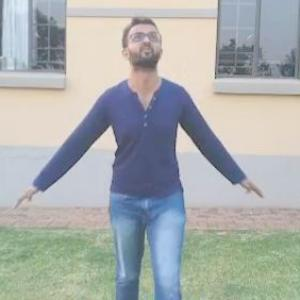land: (5, 11, 264, 299)
